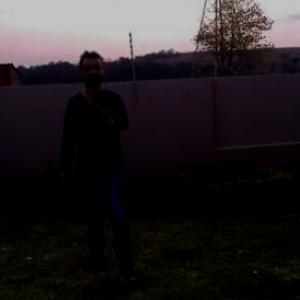takeoff-hand: (91, 91, 118, 127)
